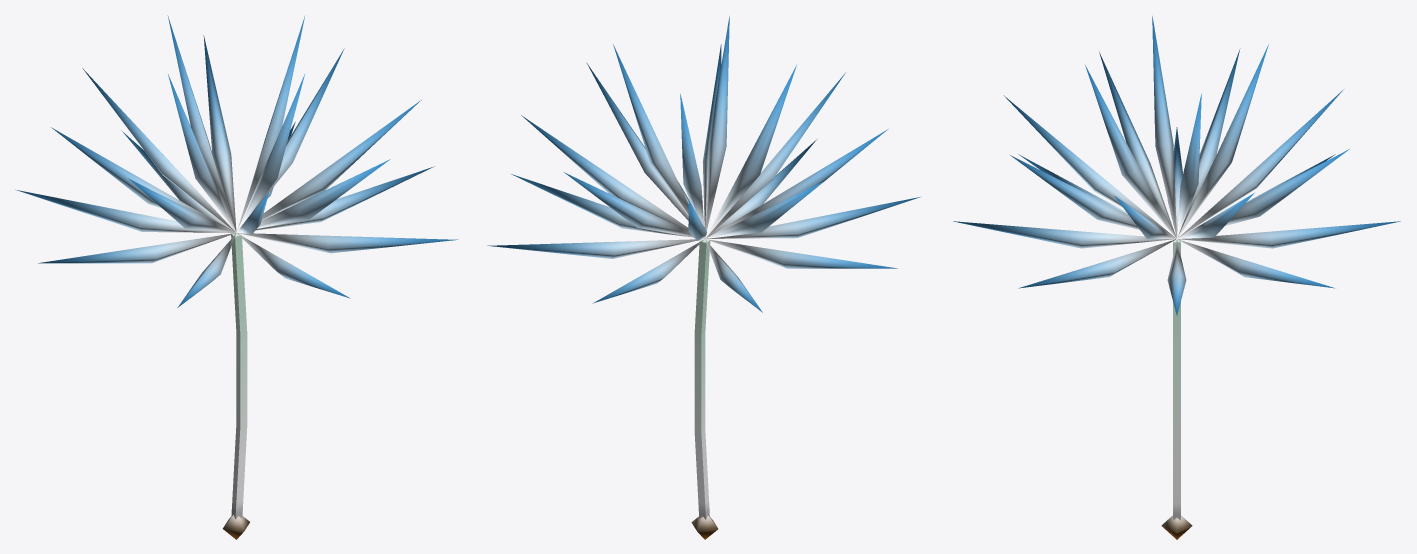
Rendered from dandelion2.FBX.
3 views of the same model, side by side, from view 1: azimuth 30°, elevation 25°; view 2: azimuth 150°, elevation 25°; view 3: azimuth 270°, elevation 25° (orthographic). The views are drawn at different scales.
Visible parts, largest first — view 1: GeoSphere001, 对象002; view 2: GeoSphere001, 对象002; view 3: GeoSphere001, 对象002.
Boxes of the visible parts, x1,y1,x2,y2 form: GeoSphere001: (15, 15, 458, 307); 对象002: (231, 233, 247, 519); GeoSphere001: (487, 16, 921, 312); 对象002: (694, 239, 710, 519); GeoSphere001: (953, 16, 1400, 315); 对象002: (1173, 239, 1180, 520).
Bounding box in the file's own units: 57.38 × 68.35 × 57.38.
